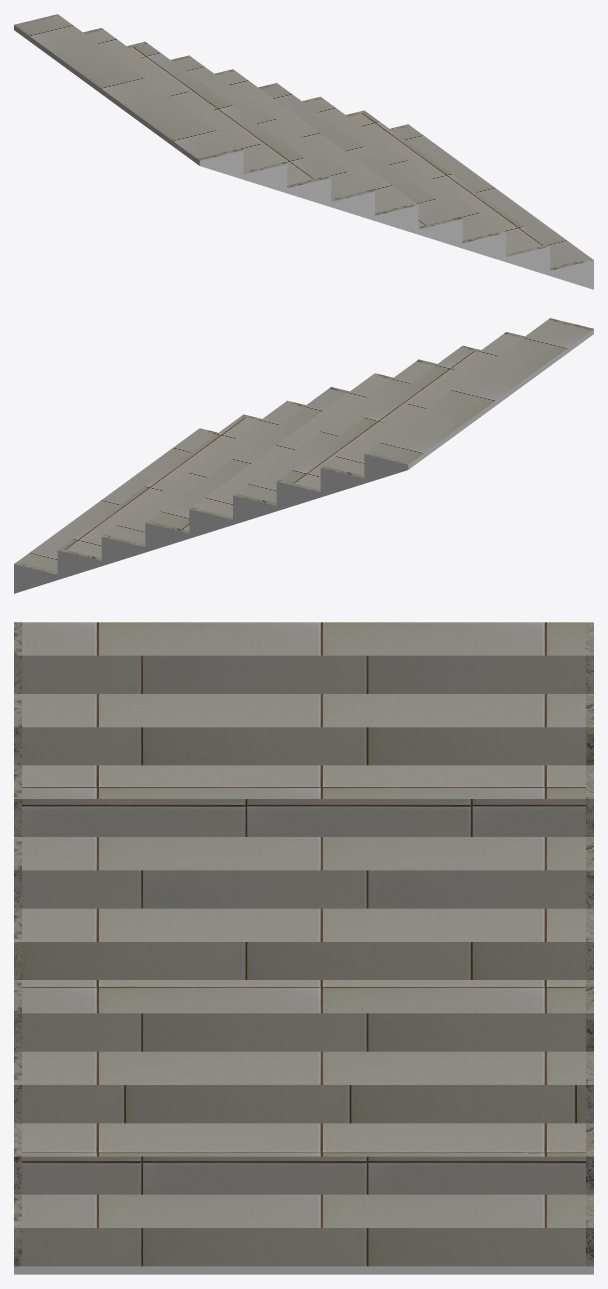
Rendered from Degraus.fbx.
The picture shows the model from 3 angles, top to bottom: view 1: azimuth 30°, elevation 25°; view 2: azimuth 150°, elevation 25°; view 3: azimuth 270°, elevation 25°; orthographic projection. The views are drawn at different scales.
Parts seen in each view (by area): view 1: Degraus; view 2: Degraus; view 3: Degraus.
Boxes of the visible parts, bbox=[...] form: Degraus: bbox=[14, 14, 593, 289]; Degraus: bbox=[14, 318, 593, 593]; Degraus: bbox=[14, 622, 593, 1274].
Size of the model in its own units: 270 by 147 by 220.
3 materials, 2 textured.
